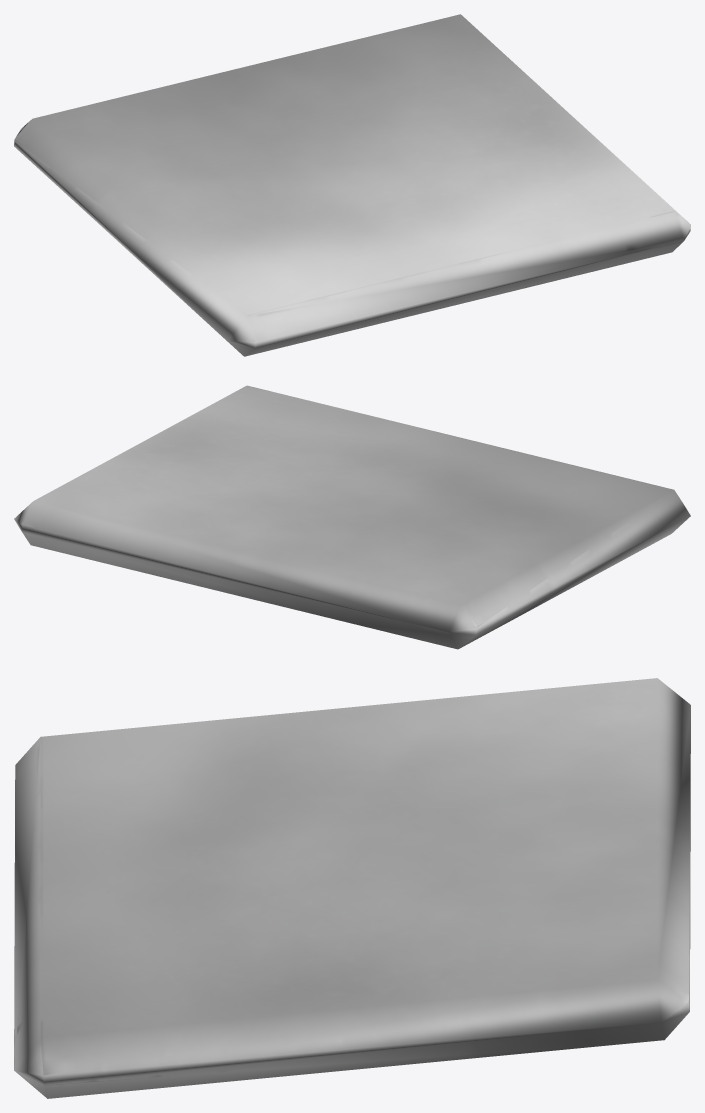
The model's file is Head_C2.fbx.
The picture shows the model from 3 angles, top to bottom: view 1: azimuth 30°, elevation 25°; view 2: azimuth 150°, elevation 25°; view 3: azimuth 270°, elevation 25°; orthographic projection. The views are drawn at different scales.
Parts seen in each view (by area): view 1: Civ_Gorra_Head_C2; view 2: Civ_Gorra_Head_C2; view 3: Civ_Gorra_Head_C2.
Boxes of the visible parts, x1,y1,x2,y2 form: Civ_Gorra_Head_C2: (14, 14, 690, 356); Civ_Gorra_Head_C2: (14, 385, 690, 649); Civ_Gorra_Head_C2: (14, 678, 690, 1098).
Size of the model in its own units: 0.8141 by 0.1394 by 0.714.
